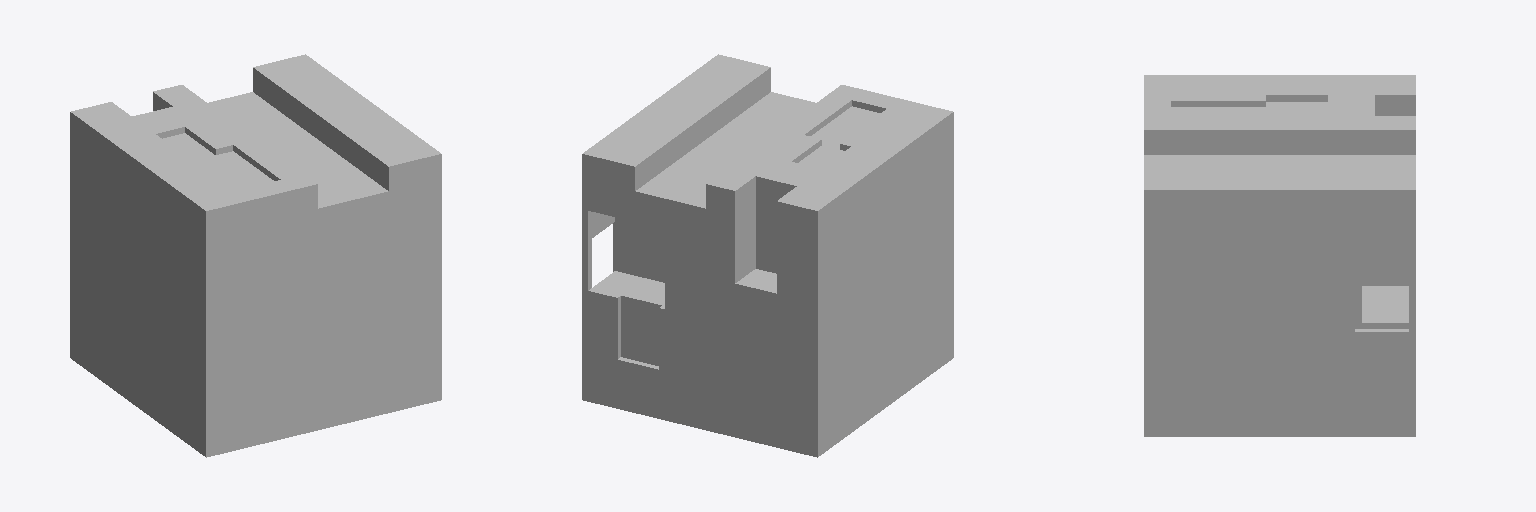
3 views of the same model, side by side, from view 1: azimuth 30°, elevation 25°; view 2: azimuth 150°, elevation 25°; view 3: azimuth 270°, elevation 25° (orthographic).
Visible parts, largest first — view 1: test; view 2: test; view 3: test.
Part boxes in pixels (bbox=[...]): test: bbox=[70, 54, 441, 457]; test: bbox=[582, 54, 953, 457]; test: bbox=[1144, 75, 1415, 436].
Size of the model in its own units: 40 by 40 by 40.